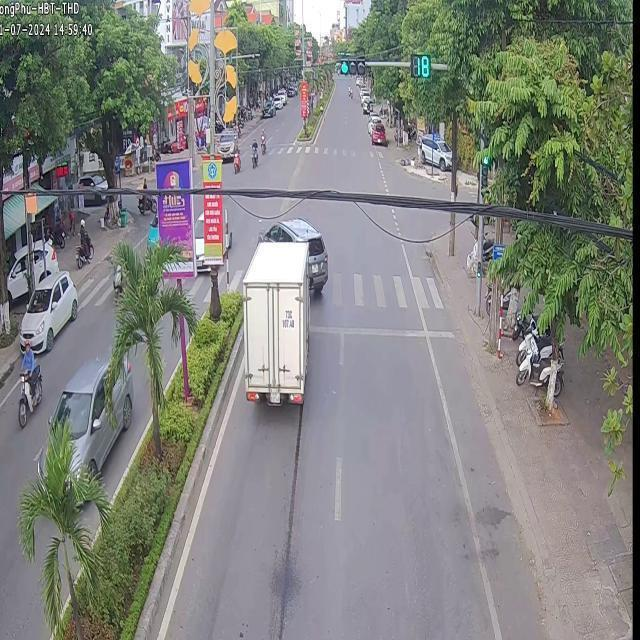car: (242, 240, 307, 402), (51, 358, 132, 474), (257, 216, 327, 291), (18, 269, 77, 349)
green_light: (337, 57, 365, 75), (408, 53, 429, 76), (479, 148, 489, 188)
motobike: (15, 362, 40, 427)
stop_line: (309, 325, 423, 336), (427, 329, 450, 336)
